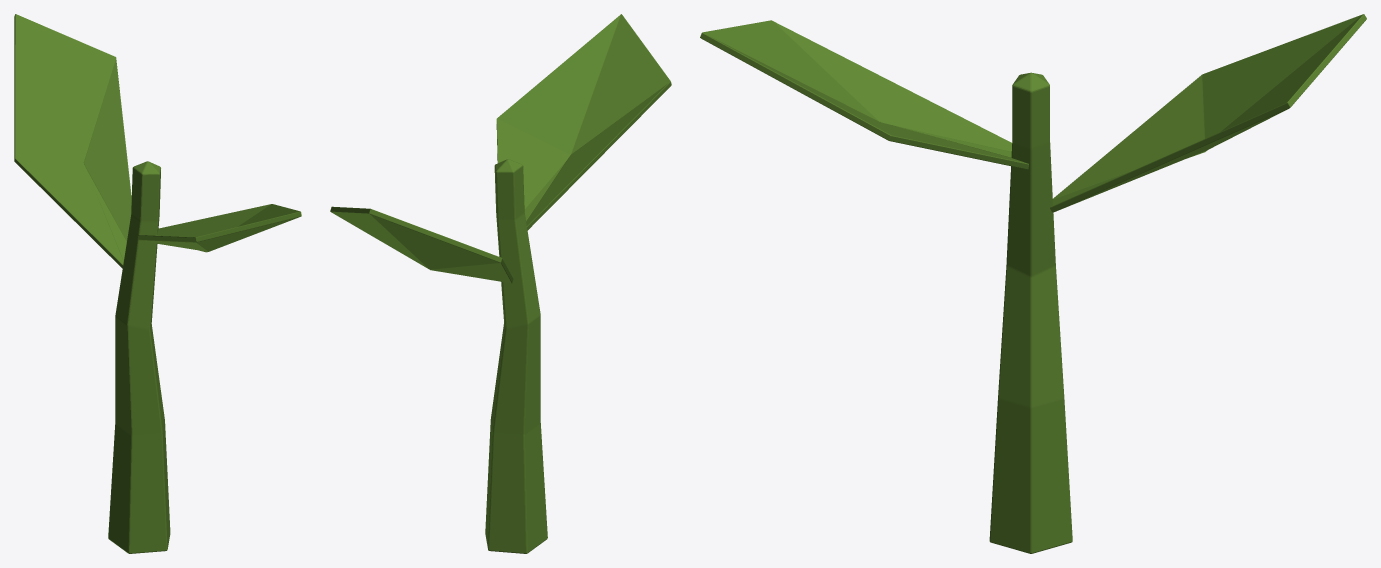
File: Seedling.fbx
3 renders of one model, left to right at view 1: azimuth 30°, elevation 25°; view 2: azimuth 150°, elevation 25°; view 3: azimuth 270°, elevation 25°, orthographic. The views are drawn at different scales.
Visible parts, largest first — view 1: pCylinder6, pCylinder4, pCylinder5; view 2: pCylinder5, pCylinder4, pCylinder6; view 3: pCylinder4, pCylinder6, pCylinder5.
Part boxes in pixels (x1,y1,x2,y2): pCylinder6: (14, 14, 131, 268); pCylinder4: (108, 161, 170, 553); pCylinder5: (137, 204, 301, 252); pCylinder5: (496, 14, 671, 230); pCylinder4: (485, 159, 547, 553); pCylinder6: (330, 206, 513, 283); pCylinder4: (989, 72, 1072, 553); pCylinder6: (1050, 14, 1366, 212); pCylinder5: (700, 20, 1028, 169).
Size of the model in its own units: 0.0494 by 0.1486 by 0.1701.
